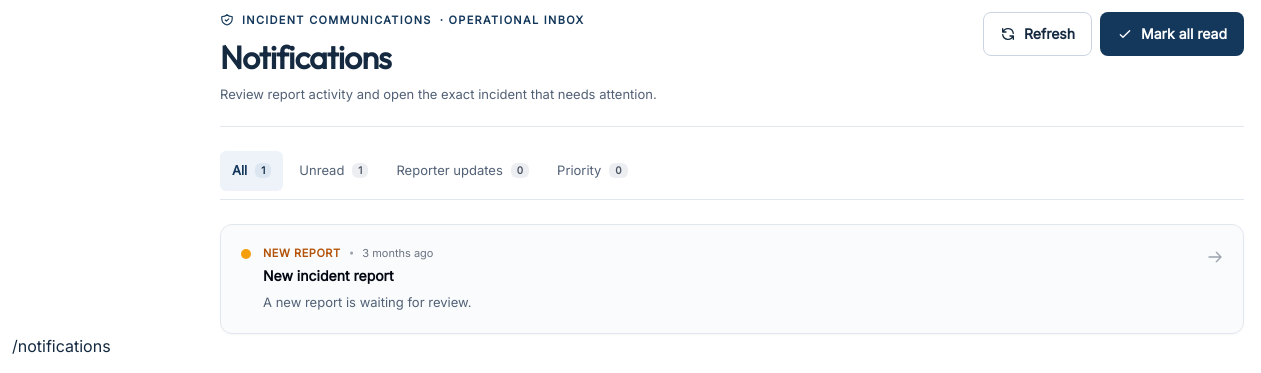
operational notification inbox › marks ordinary notifications before navigating
Click the button "New incident report" at [302, 253], box [221,225,1243,333]
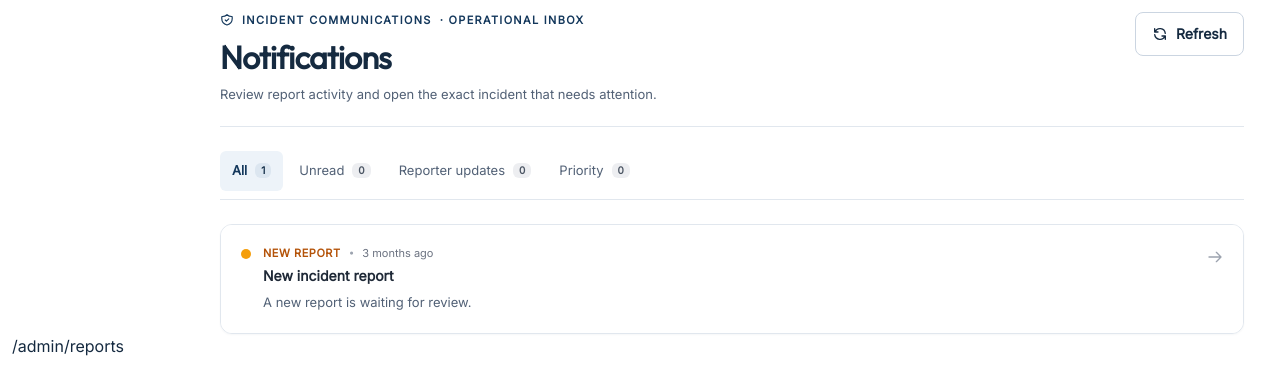
Expected: the text with test id "location" reads "/admin/reports", [12,336,124,356]
